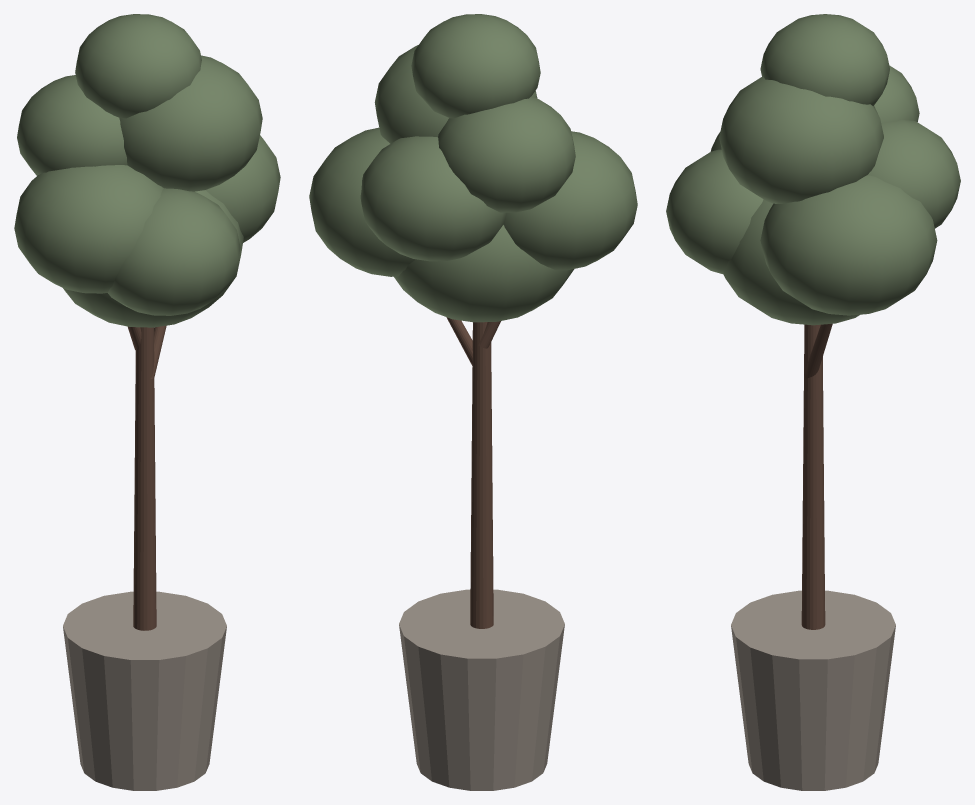
File: plant.glb
The picture shows the model from 3 angles, left to right: view 1: azimuth 30°, elevation 25°; view 2: azimuth 150°, elevation 25°; view 3: azimuth 270°, elevation 25°; orthographic projection.
Visible parts, largest first — view 1: pot, leaf2, leaf5, leaf4, leaf7, leaf6, trunk, leaf1, leaf0; view 2: pot, leaf3, leaf6, leaf2, leaf7, leaf0, leaf1, trunk, leaf5; view 3: pot, leaf1, leaf5, leaf7, leaf4, trunk, leaf3, leaf0, leaf6, branch1.
Boxes of the visible parts, x1,y1,x2,y2 form: pot: (63, 591, 226, 790); leaf2: (14, 165, 163, 293); leaf5: (119, 55, 262, 191); leaf4: (108, 188, 240, 315); leaf7: (75, 14, 201, 118); leaf6: (17, 75, 127, 175); trunk: (133, 327, 156, 630); leaf1: (205, 135, 280, 242); leaf0: (63, 190, 243, 327); pot: (399, 589, 564, 790); leaf3: (360, 136, 506, 261); leaf6: (438, 96, 575, 212); leaf2: (503, 131, 637, 270); leaf7: (411, 14, 540, 118); leaf0: (394, 225, 574, 322); leaf1: (309, 127, 415, 276); trunk: (470, 322, 493, 628); leaf5: (374, 45, 537, 143); pot: (731, 590, 895, 790); leaf1: (760, 175, 937, 315); leaf5: (719, 76, 883, 203); leaf7: (760, 14, 889, 105); leaf4: (666, 149, 763, 273); trunk: (801, 324, 825, 629); leaf3: (868, 120, 960, 228); leaf0: (723, 199, 859, 325); leaf6: (874, 65, 919, 123); branch1: (804, 323, 832, 378).
Bounding box in the file's own units: 0.54 × 1.39 × 0.5.
